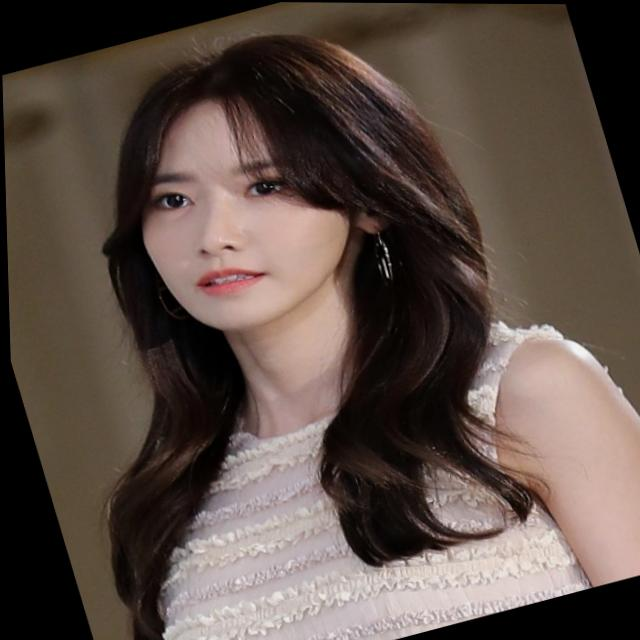face: (65, 3, 448, 376)
